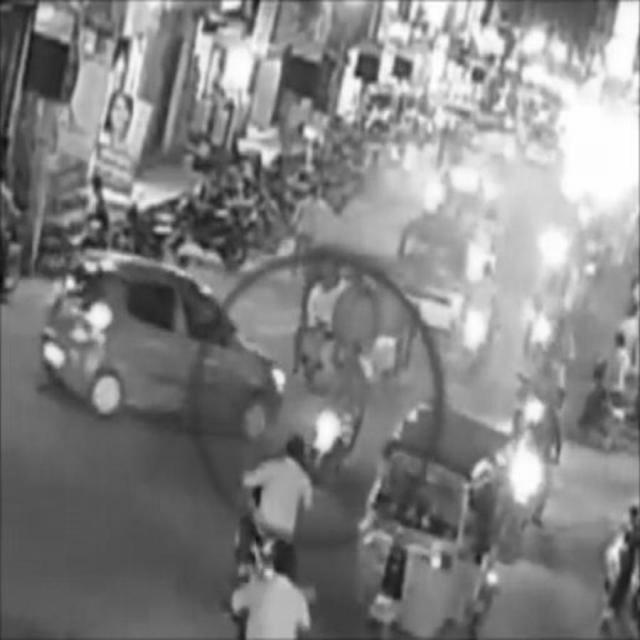vehicle: (42, 253, 284, 441), (354, 402, 510, 632), (296, 249, 422, 377), (236, 427, 309, 592), (313, 345, 365, 487)
